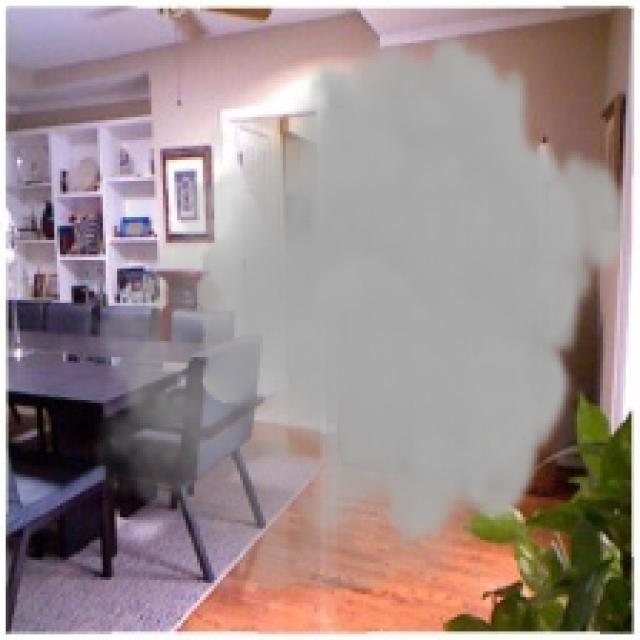Smoke: (77, 29, 634, 588)
